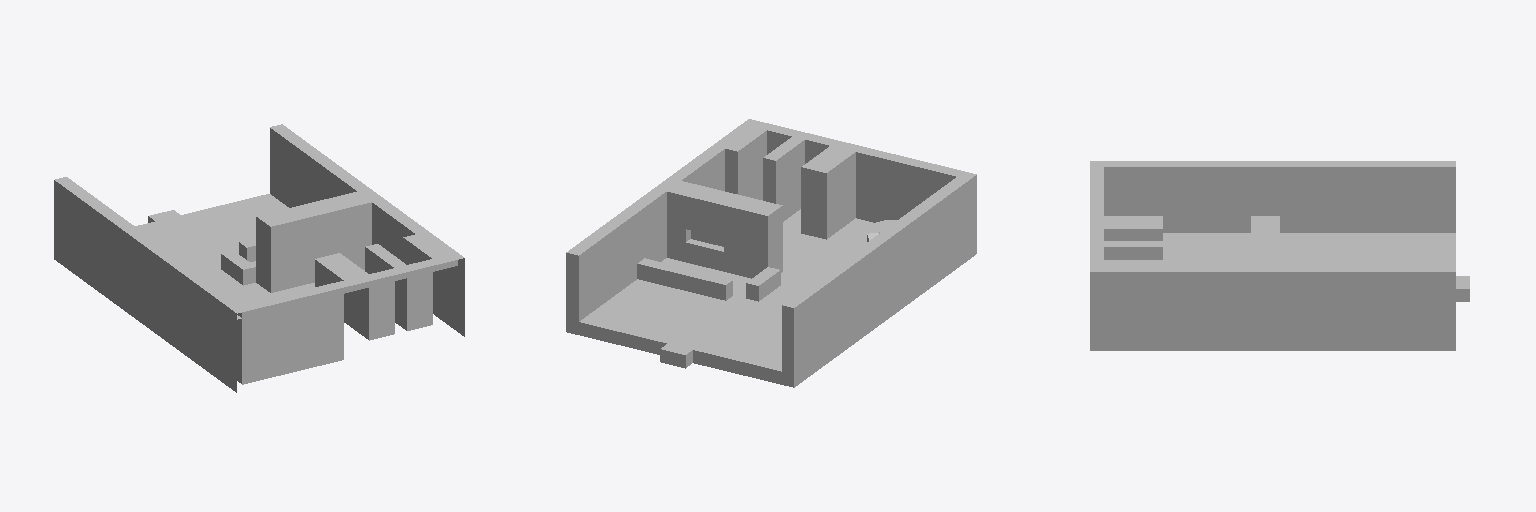
The model's file is barTESTE.obj.
The picture shows the model from 3 angles: view 1: azimuth 30°, elevation 25°; view 2: azimuth 150°, elevation 25°; view 3: azimuth 270°, elevation 25°; orthographic projection.
Parts seen in each view (by area): view 1: Cube; view 2: Cube; view 3: Cube.
Part boxes in pixels (x1,y1,x2,y2): Cube: (54,124,464,392); Cube: (566,119,976,387); Cube: (1090,161,1469,350).
Bounding box in the file's own units: 9 × 3 × 13.